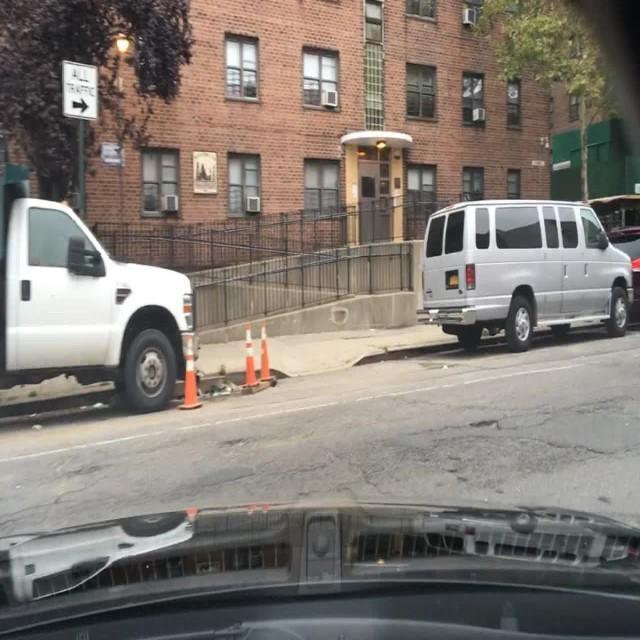normal: (0, 127, 230, 442), (380, 150, 640, 356)
